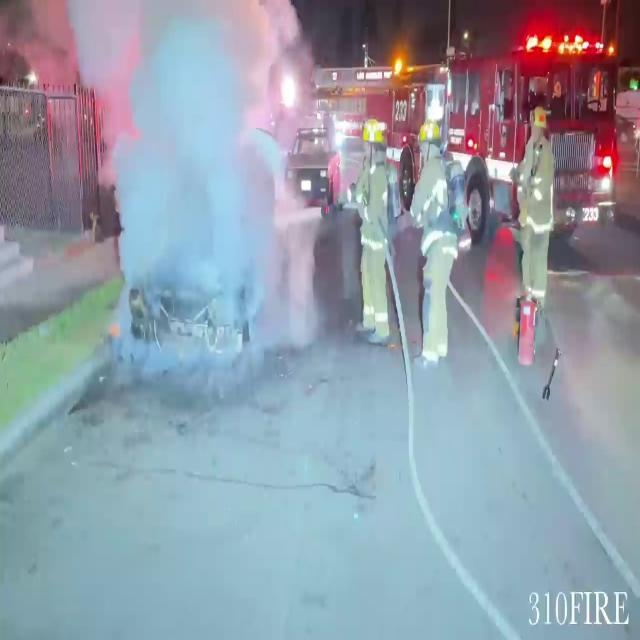Smoke: (76, 0, 308, 380)
